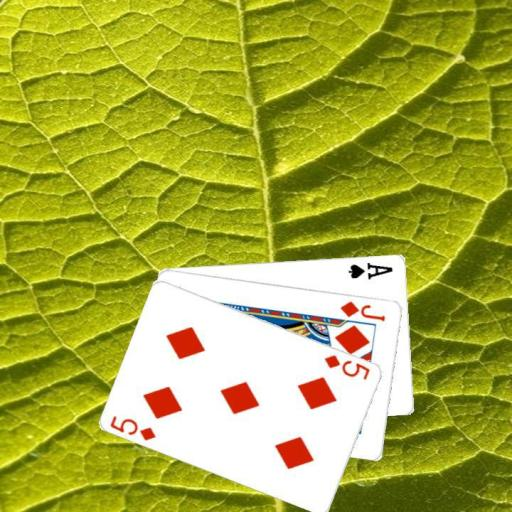5D: (321, 351, 372, 381), (107, 413, 158, 443)
AS: (346, 258, 395, 281)
JD: (337, 297, 387, 323)
